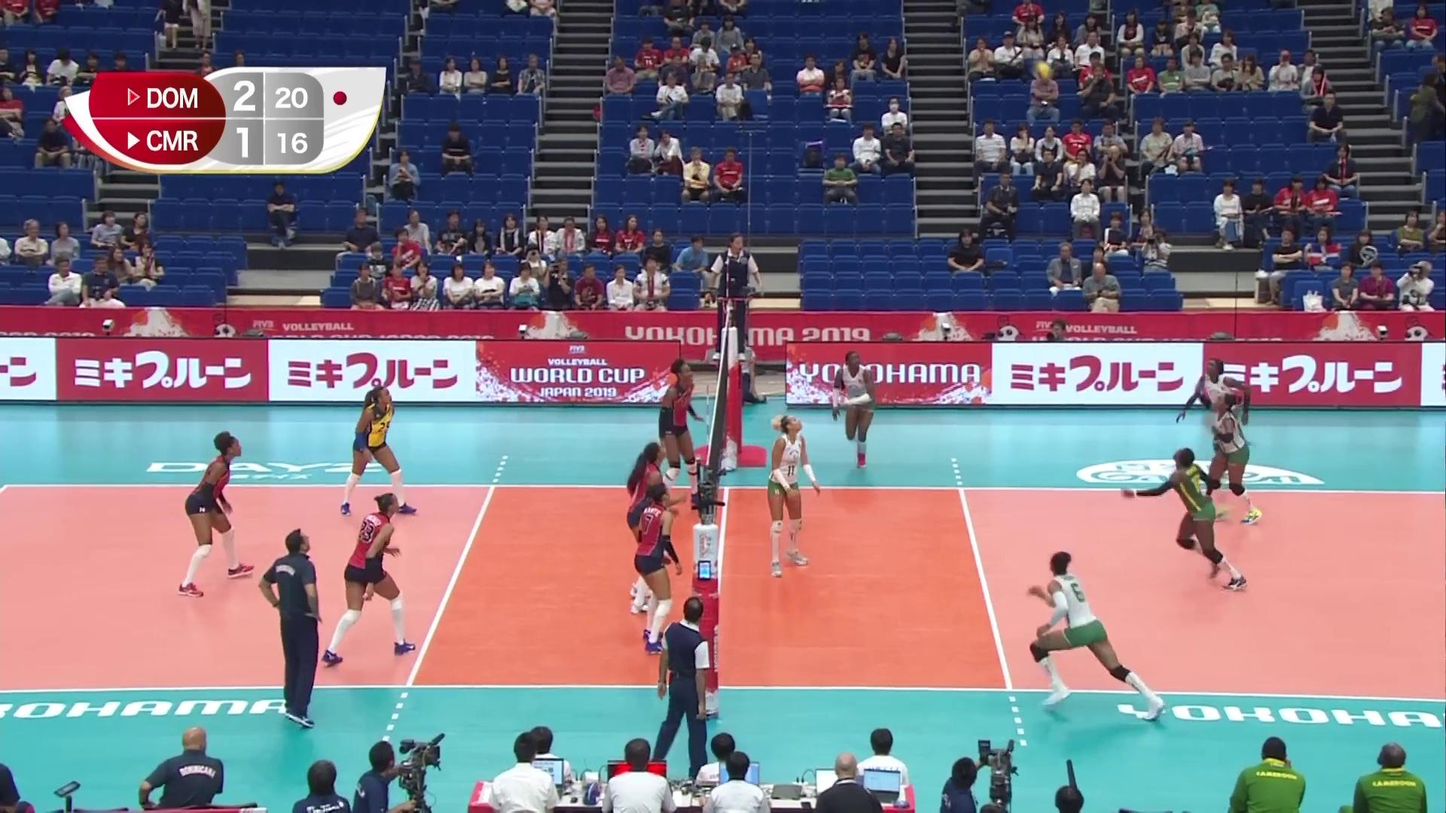player: (1027, 557, 1162, 714), (1125, 451, 1254, 592), (335, 492, 418, 662), (173, 429, 253, 591), (620, 484, 684, 656), (1183, 351, 1254, 500), (625, 441, 680, 622), (764, 413, 823, 574), (343, 386, 415, 517), (651, 361, 705, 534), (1197, 387, 1265, 524), (830, 347, 878, 471)
refree: (653, 603, 712, 787), (704, 232, 763, 364)
